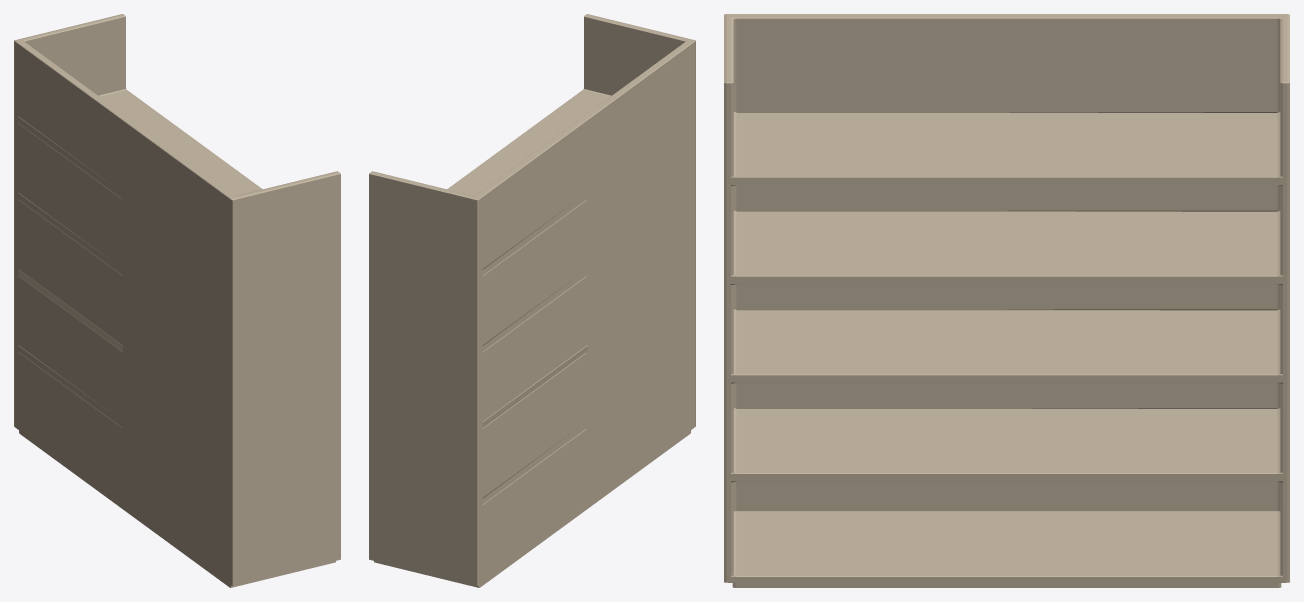
The model's file is Shelf05.fbx.
The picture shows the model from 3 angles, left to right: view 1: azimuth 30°, elevation 25°; view 2: azimuth 150°, elevation 25°; view 3: azimuth 270°, elevation 25°; orthographic projection. The views are drawn at different scales.
Parts seen in each view (by area): view 1: ragel5ablagen; view 2: ragel5ablagen; view 3: ragel5ablagen.
Part boxes in pixels (left/top/right/bottom): ragel5ablagen: left=14, top=14, right=340, bottom=587; ragel5ablagen: left=369, top=14, right=695, bottom=587; ragel5ablagen: left=724, top=14, right=1289, bottom=587.
Bounding box in the file's own units: 269 × 917 × 928.
